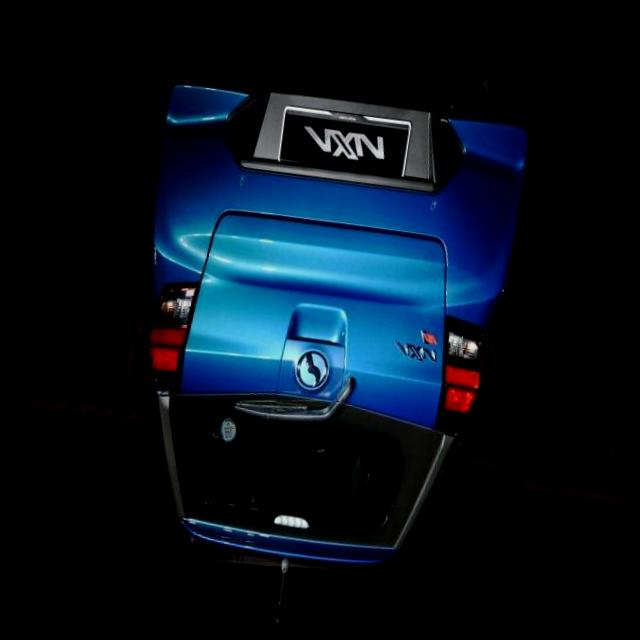PeroduaAxia: (97, 43, 539, 622)
